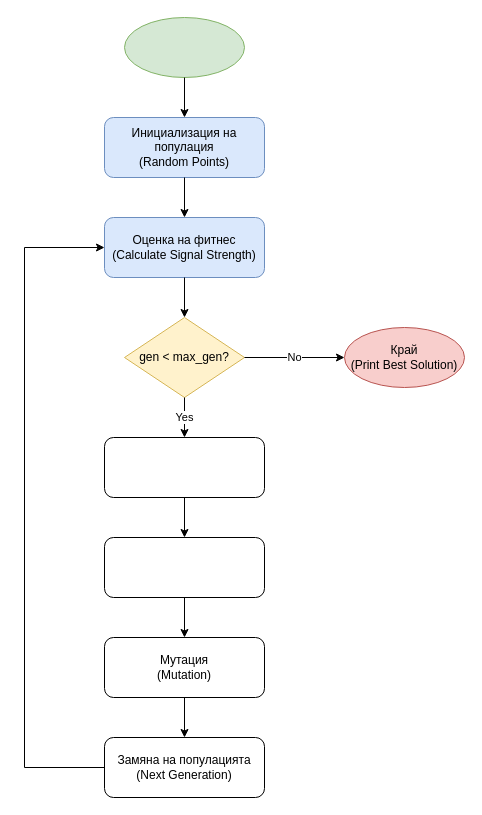
Some shapes in this 482 by 815 pixel diagram are drawn without their labels. The shapes that lost their labels are listed below. From the top down, each one's centre as x and y in pixels, then its label:
At pixel 184 47: "Начало (Start)".
At pixel 184 467: "Селекция на родители (Selection)".
At pixel 184 567: "Кръстосване (Crossover)".
